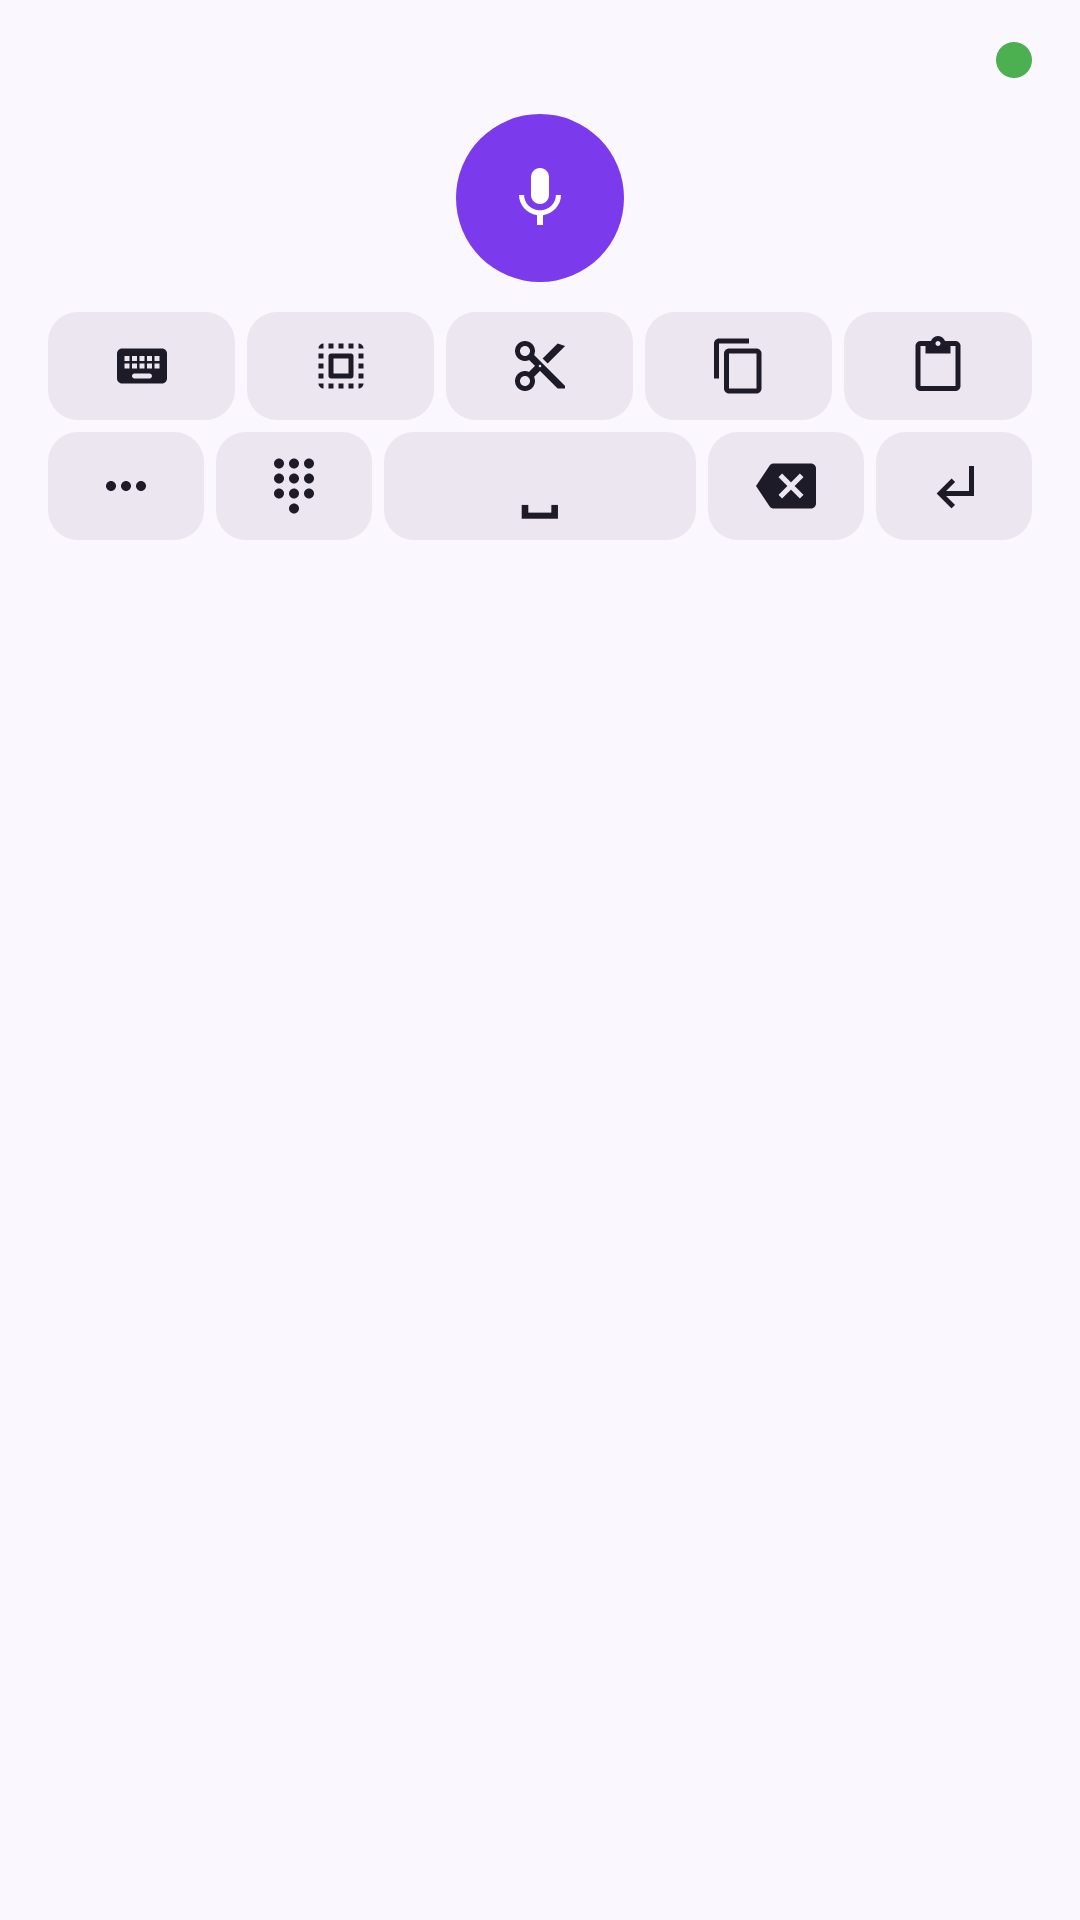

Where to tap for icons on this 1080px x 1920px app screen, as (x,y):
Copy: (738,366)
Cut: (539,366)
Delete: (786,486)
Exit: (142,366)
Numbers: (294,486)
Paste: (938,366)
Punctuation: (126,486)
Record: (540,198)
Return: (954,486)
Select all: (340,366)
